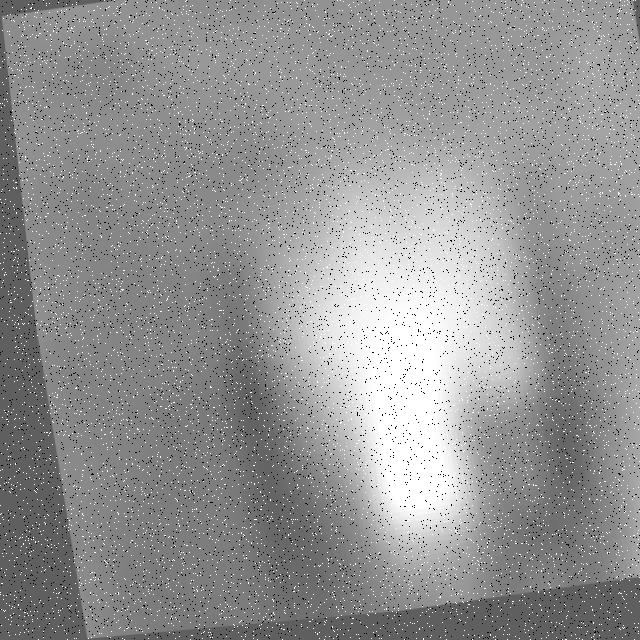person: (269, 108, 564, 623), (508, 191, 640, 597)
